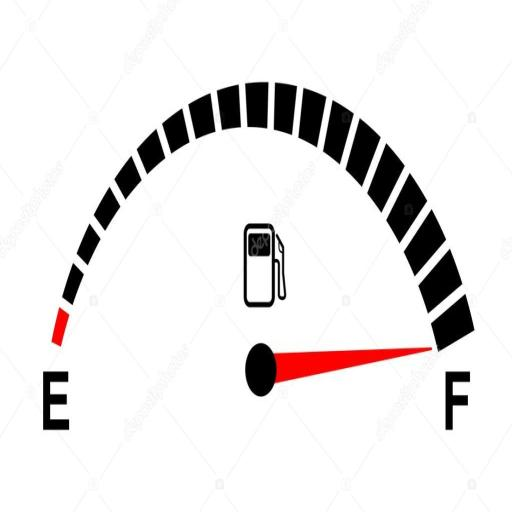empty: (36, 364, 77, 438)
fuel_icon: (238, 218, 288, 315)
full: (440, 366, 474, 433)
guage_area: (27, 74, 478, 454)
needle_center: (240, 338, 282, 408)
needle_tip: (420, 338, 433, 361)
